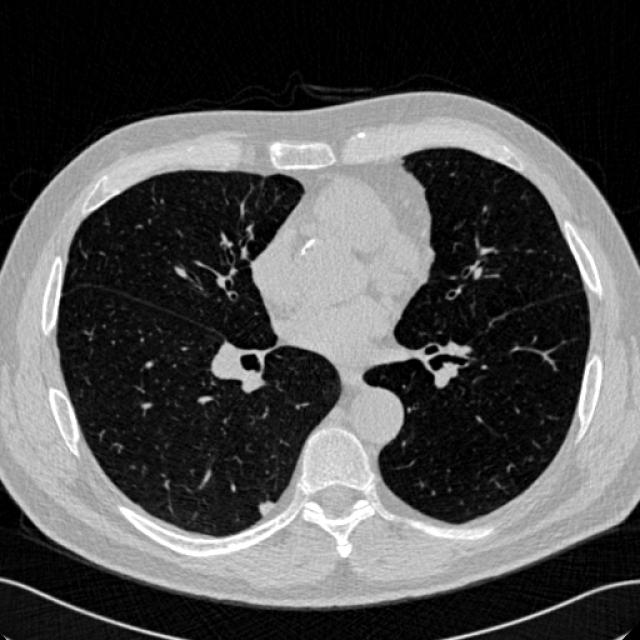nodule: (252, 495, 276, 520)
